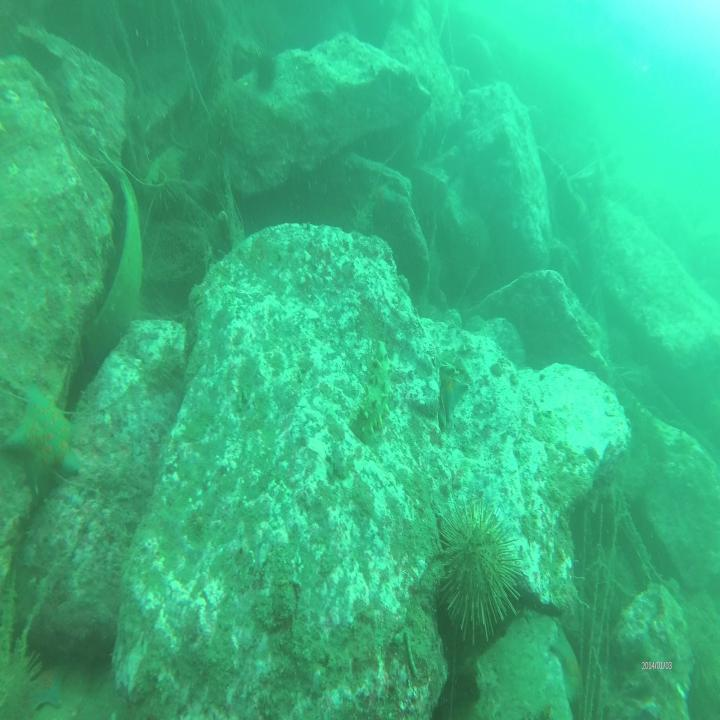echinus: (434, 493, 528, 644), (151, 150, 185, 220), (207, 84, 242, 150), (254, 46, 284, 92)
holothurian: (352, 338, 396, 438)
starfish: (5, 376, 83, 491)
